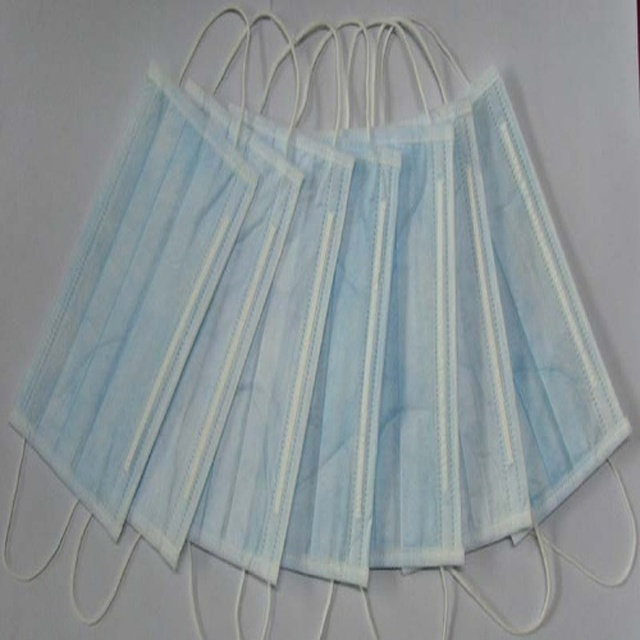mask: (1, 7, 261, 584), (453, 20, 635, 585)
